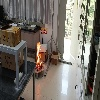fire: (36, 41, 42, 71)
